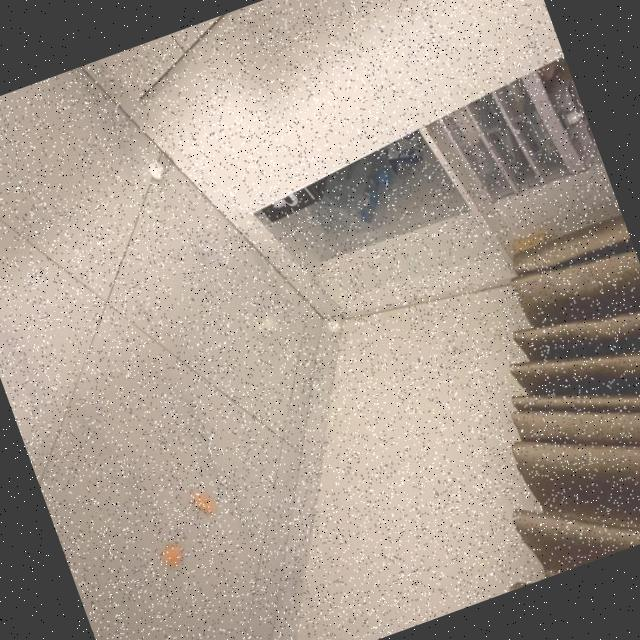ping-pong-ball: (252, 309, 285, 342), (188, 492, 220, 524), (157, 541, 185, 569), (322, 312, 346, 341), (144, 156, 170, 182)
